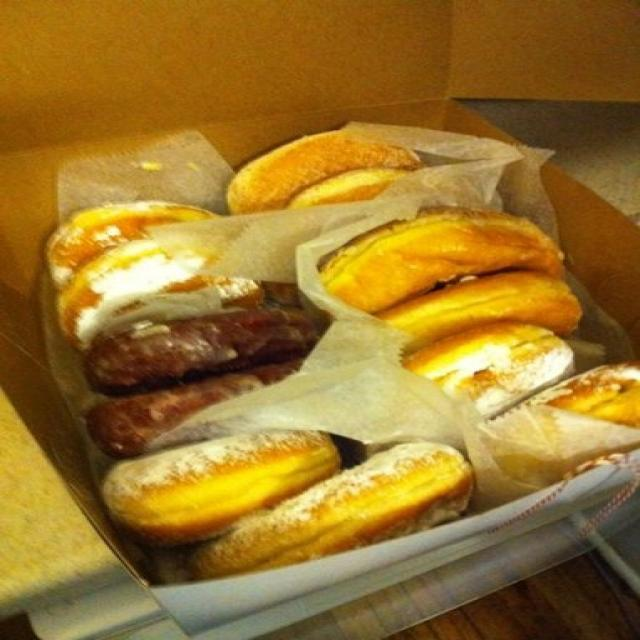Donuts: (35, 127, 640, 618)
